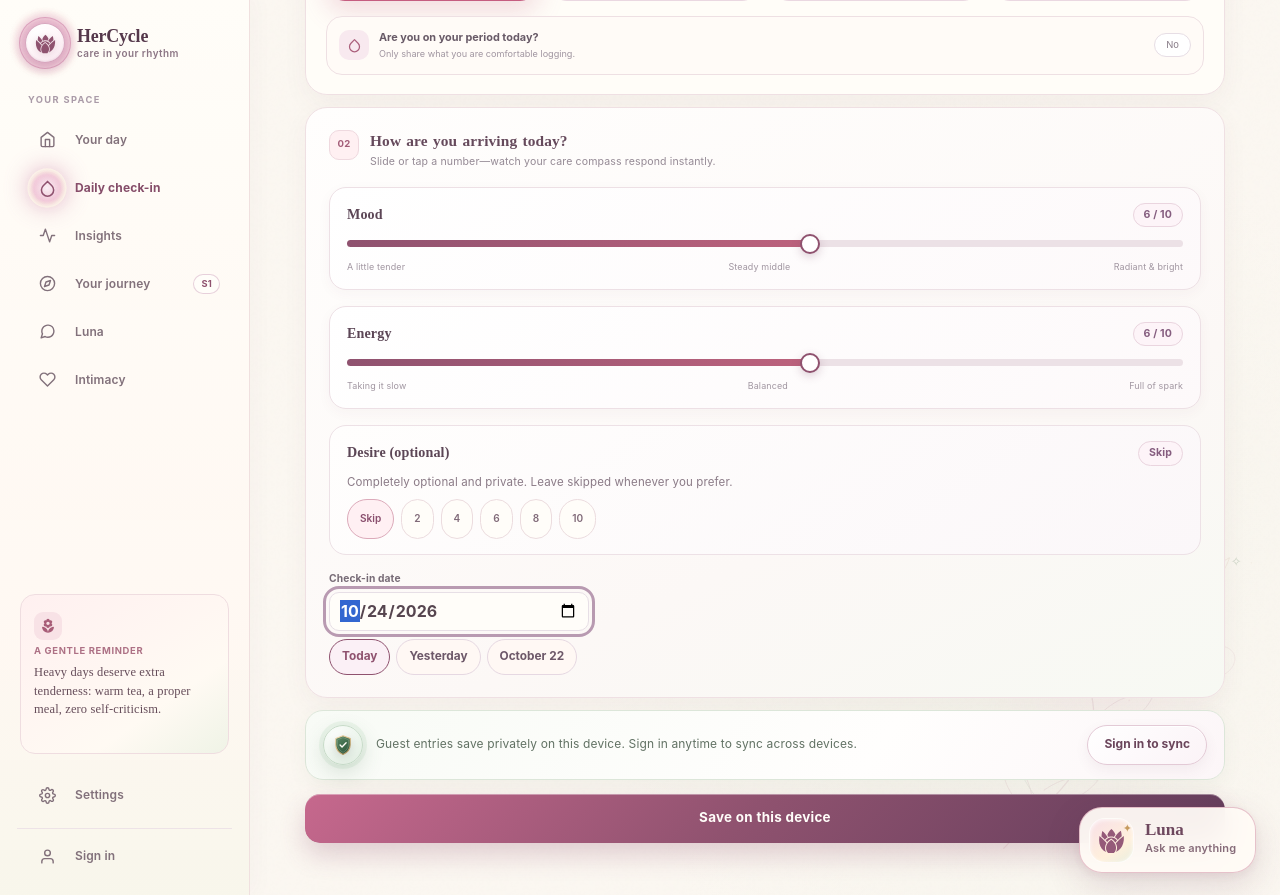
Test: LunaWidget navigation, form-focus auto-hide, and shared thread sync › renders launcher on Home, auto-hides when interacting with a form on /log, and syncs live thread to /luna
This screenshot has width=1280, height=895.
(page scrolled)
Focus the date field labelled "Check-in date": (459, 611) [329, 592, 589, 631]
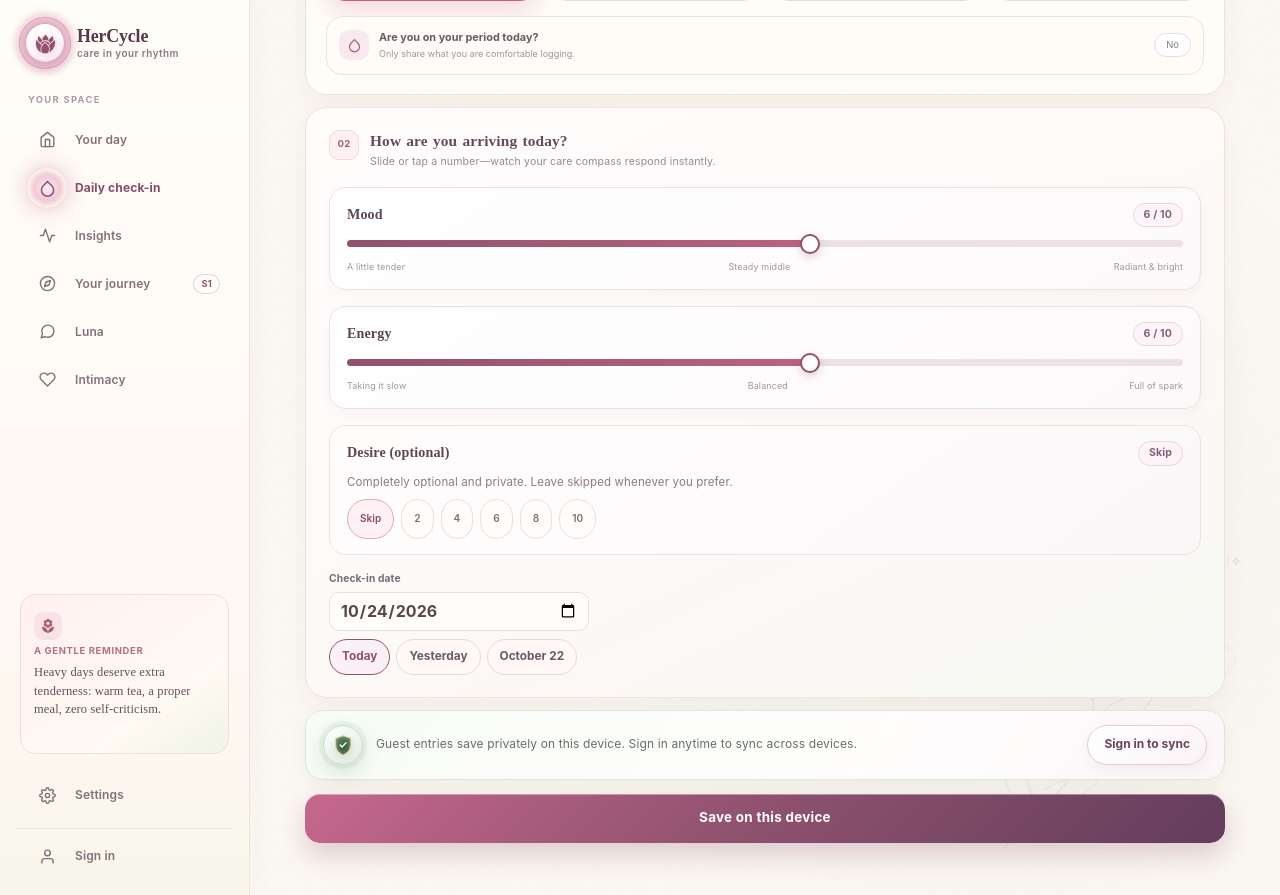
Leave the date field labelled "Check-in date", box [329, 592, 589, 631]
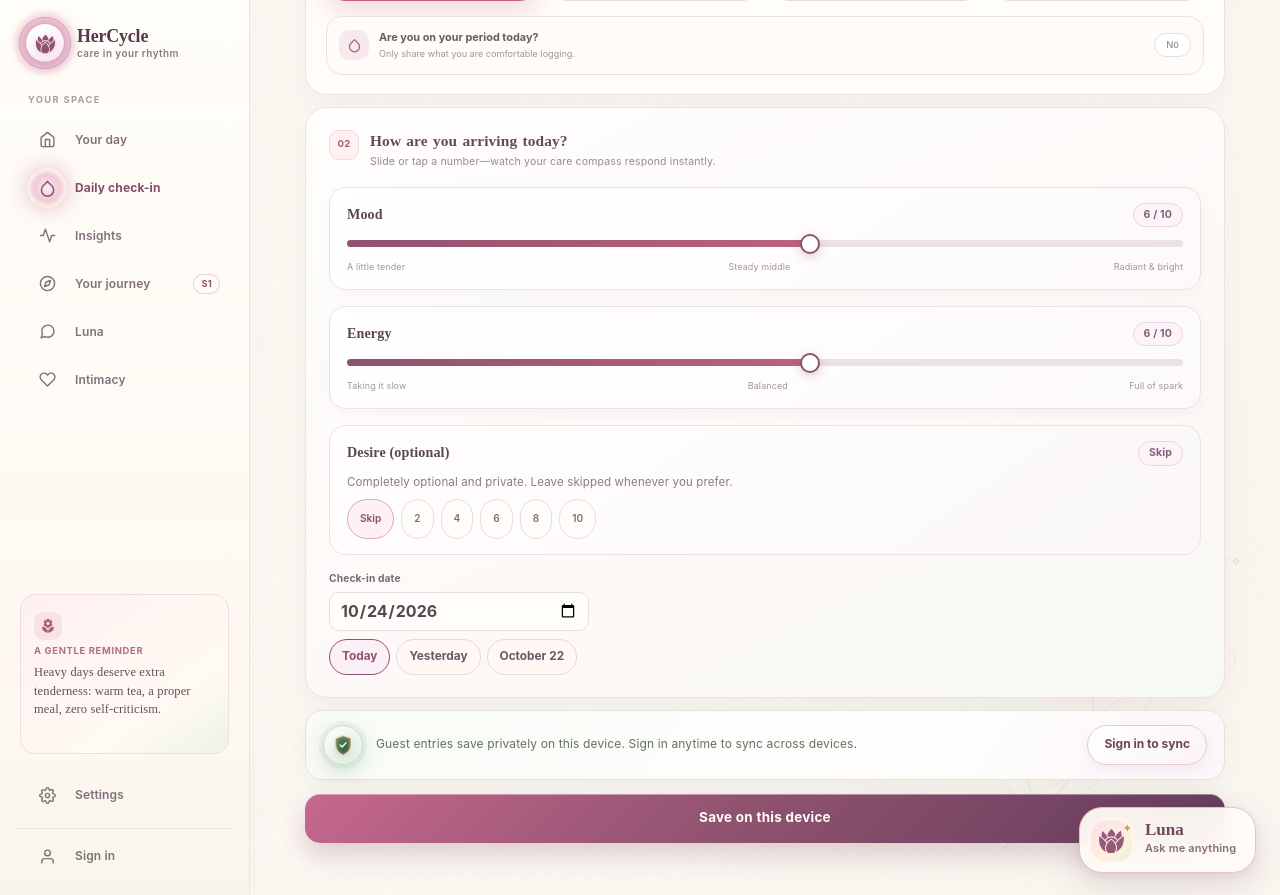
Open widget, send a short 1-word message, then jump to Full View (/luna)
Click the button with aria-label "open luna chat": (1168, 840) [1079, 807, 1256, 873]
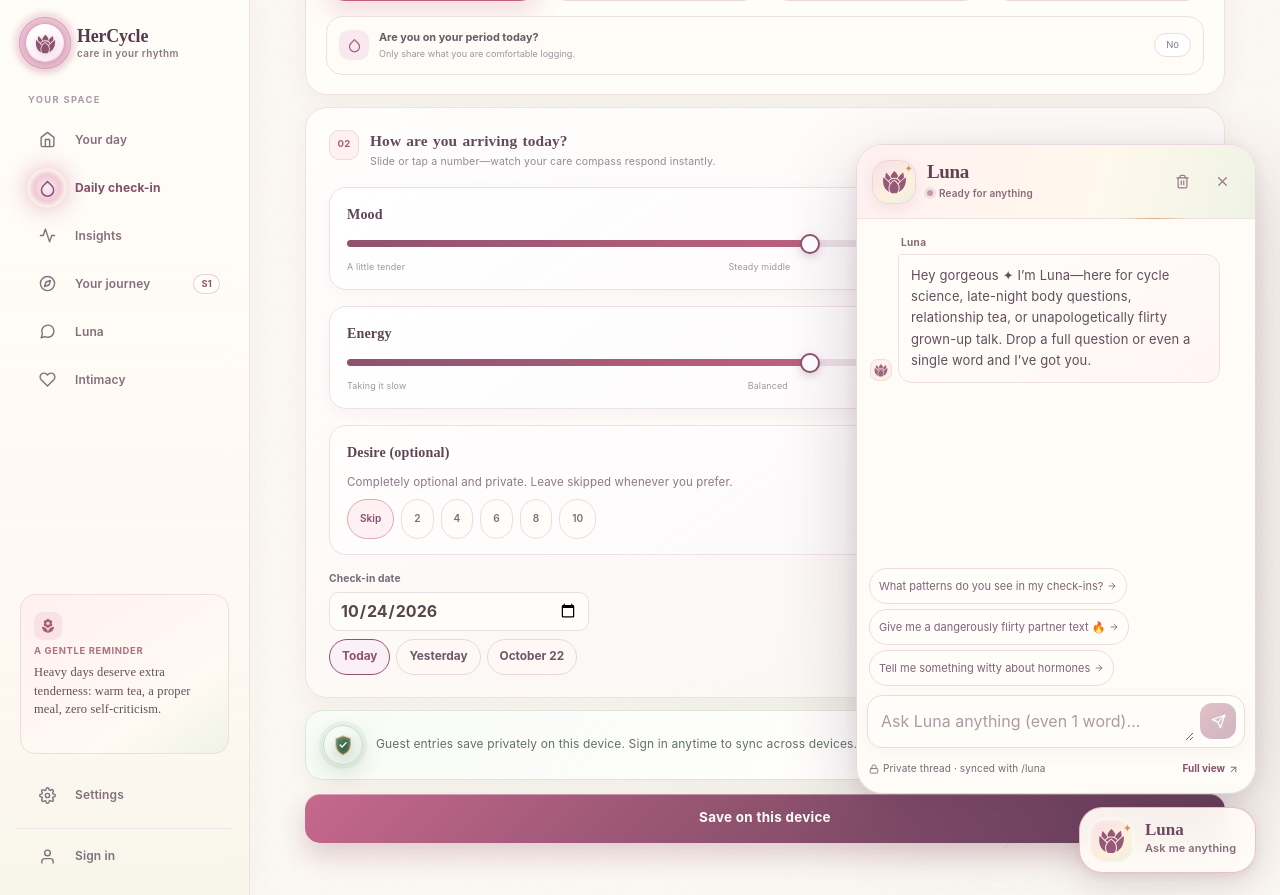
In the text box with placeholder "Ask Luna anything (even 1 word)…": (1036, 721) [879, 702, 1194, 741], type "cramps"
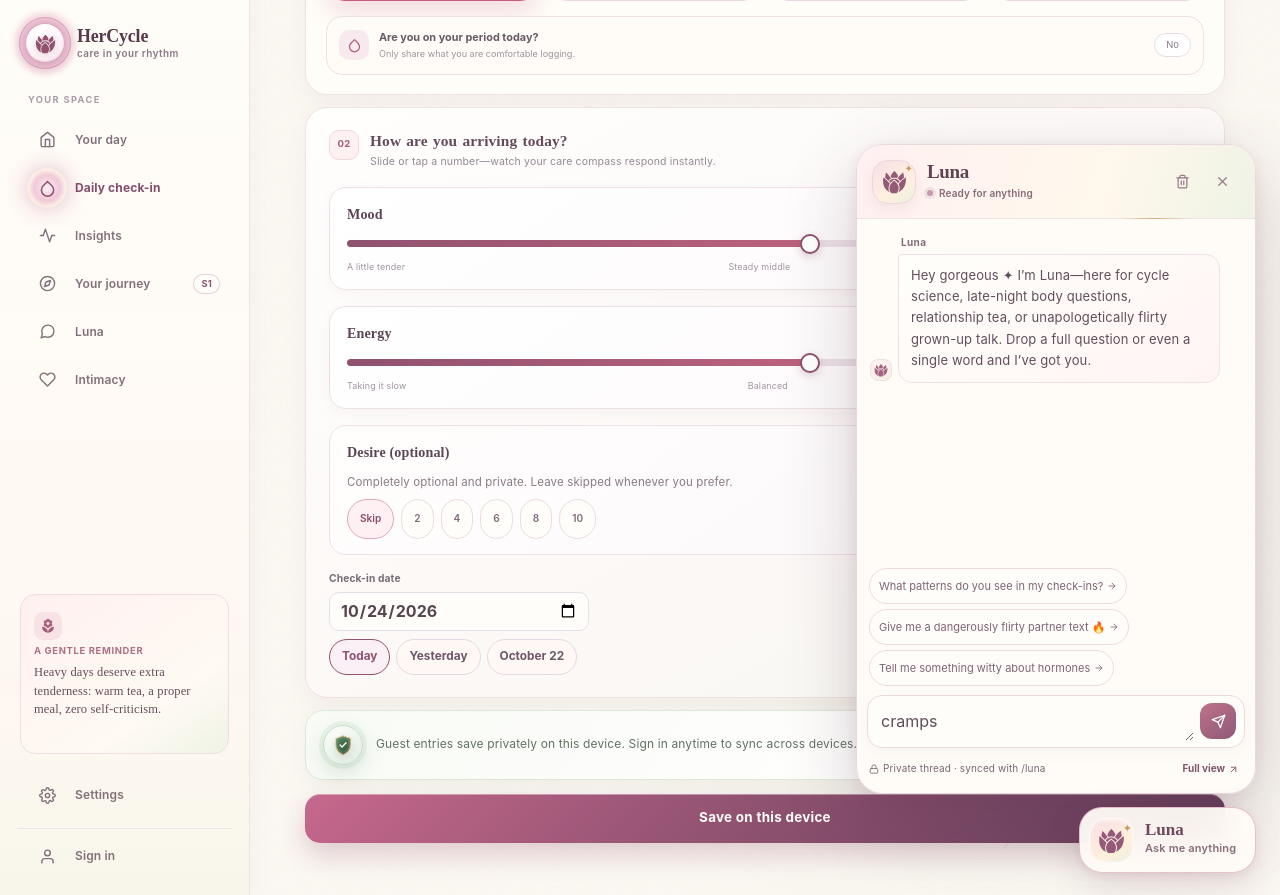
Submit the form with placeholder "ask luna anything", box [867, 695, 1245, 748]
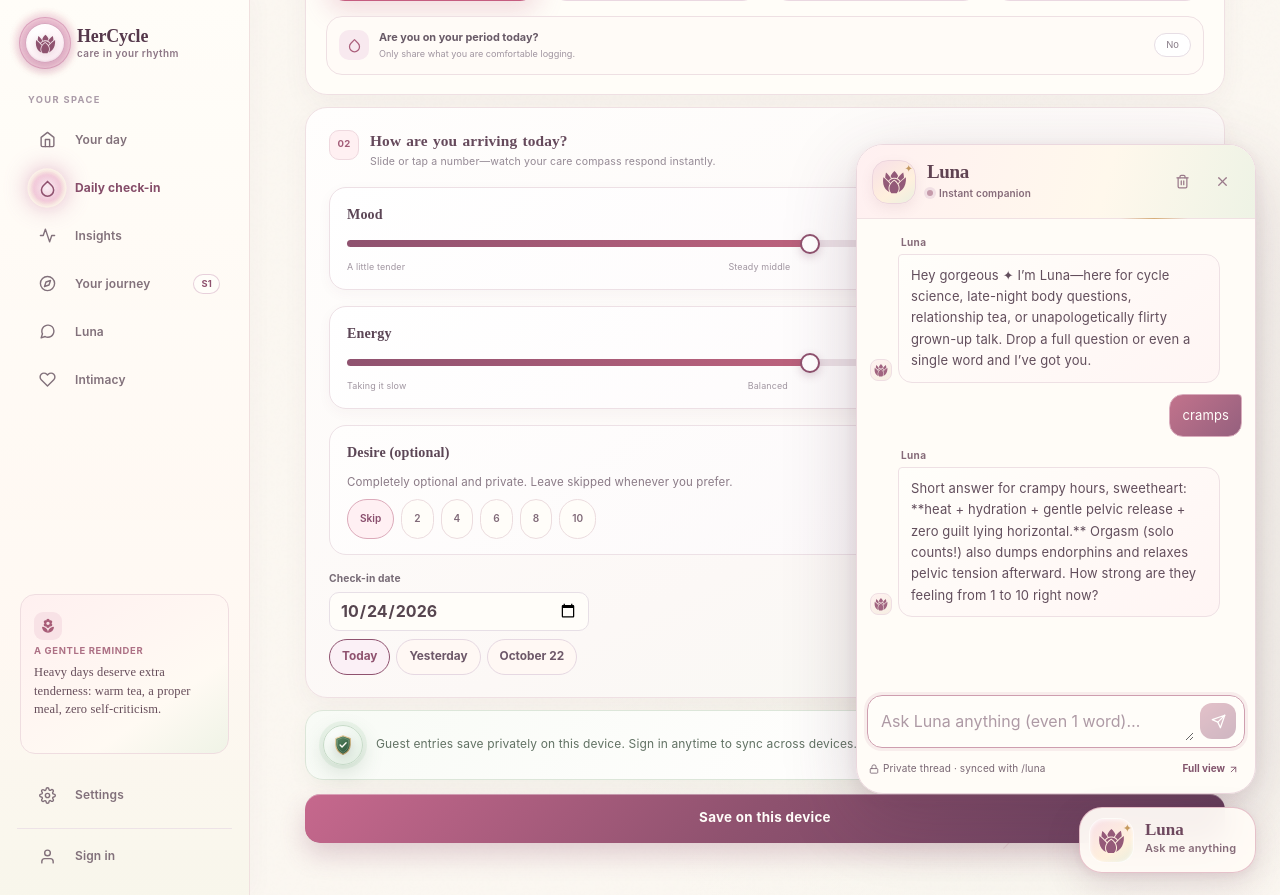
Click the button "Full view": (1211, 769) [1178, 753, 1243, 785]
(page scrolled)
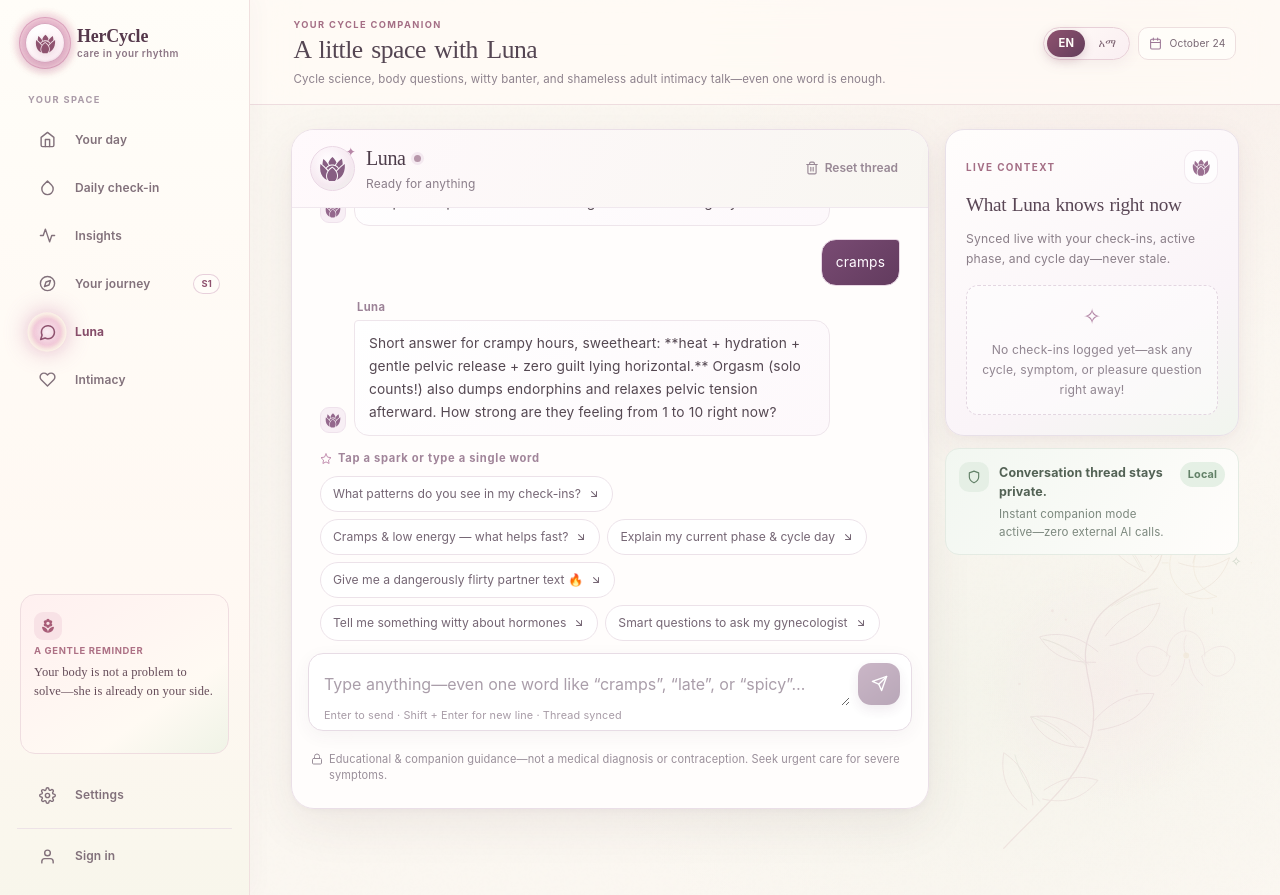
Result: the element with test id "luna-widget-root" is gone
Result: the text "cramps" is shown at [821, 239, 900, 286]
